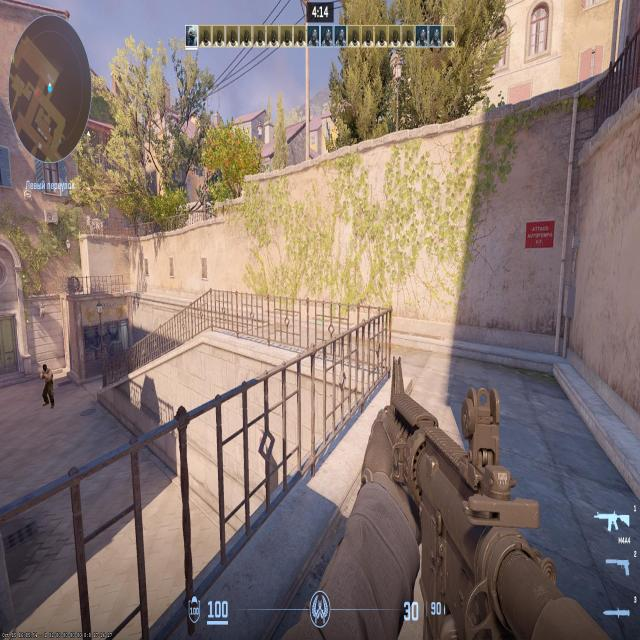T: (42, 364, 54, 405)
T_heat: (44, 365, 47, 374)
